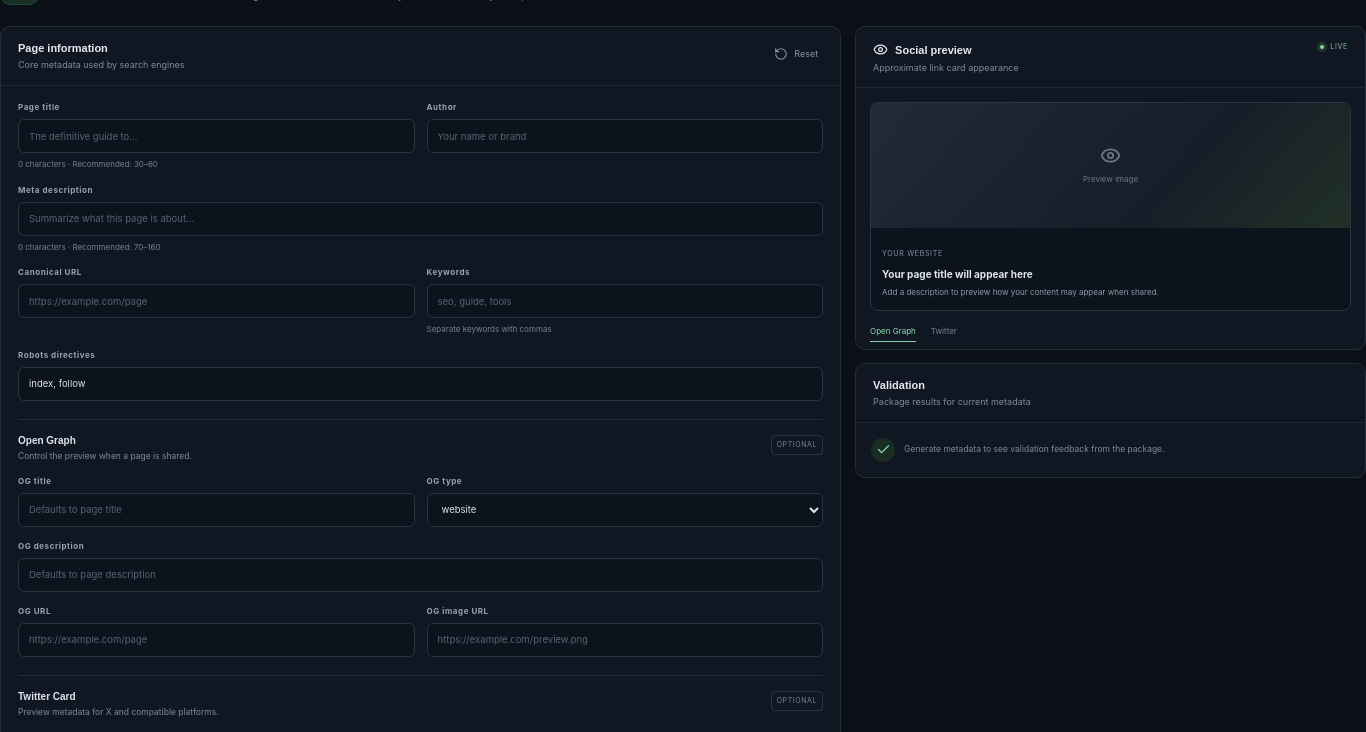
it: SEO generator interactions › generates metadata and displays the package HTML and validation result
Type "Search ready page" into the field with placeholder "The definitive guide to…". click: [216, 136]
box: [18, 119, 414, 153]
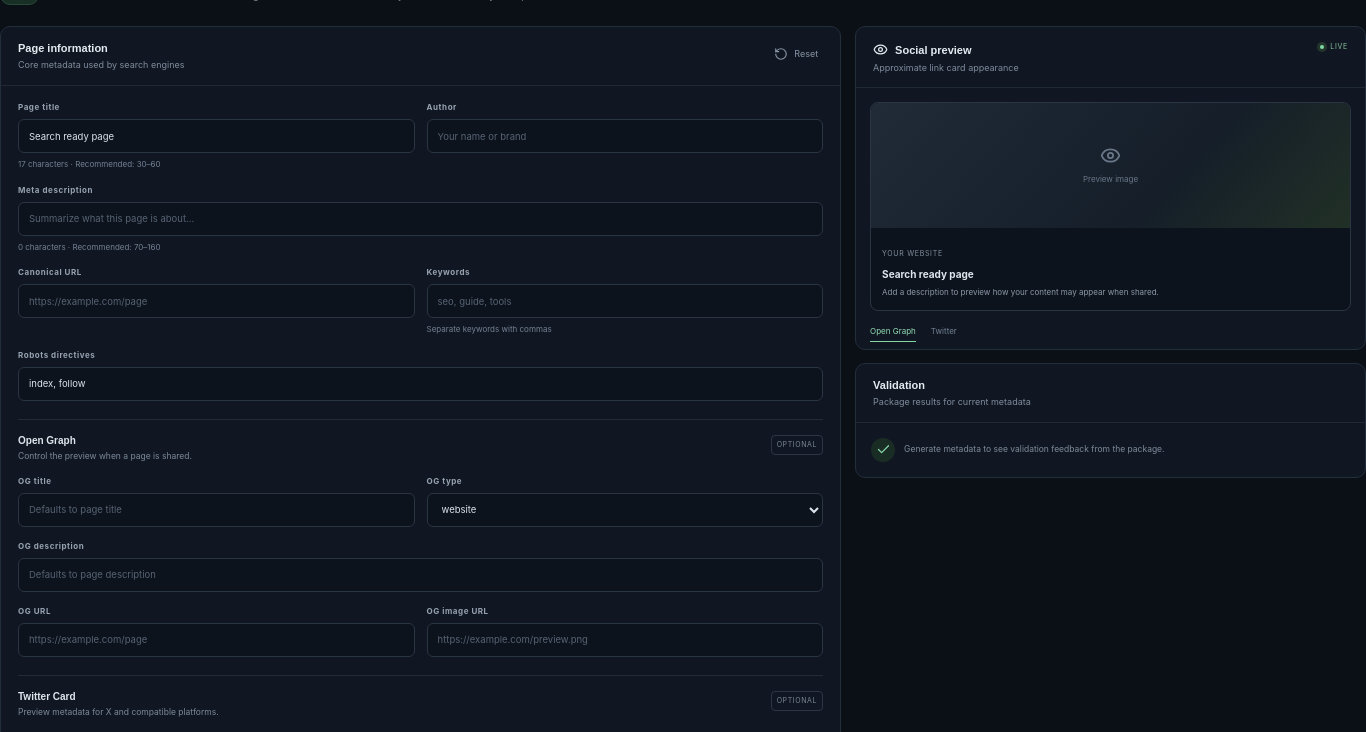
Type "A useful description for this search page." into the field with placeholder "Summarize what this page is about…". click: [421, 219]
box: [18, 202, 823, 236]
(page scrolled)
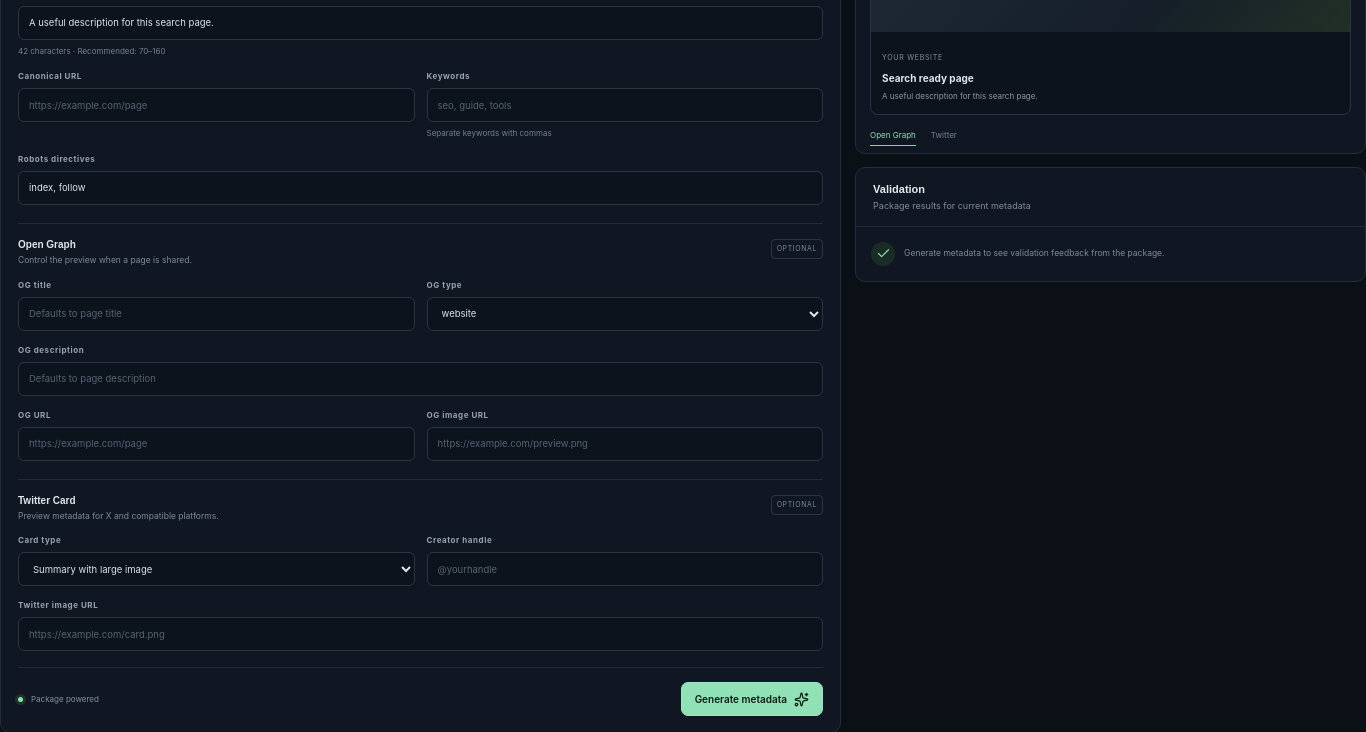
Click the button "Generate metadata". click: [752, 699]
box: [681, 682, 823, 716]
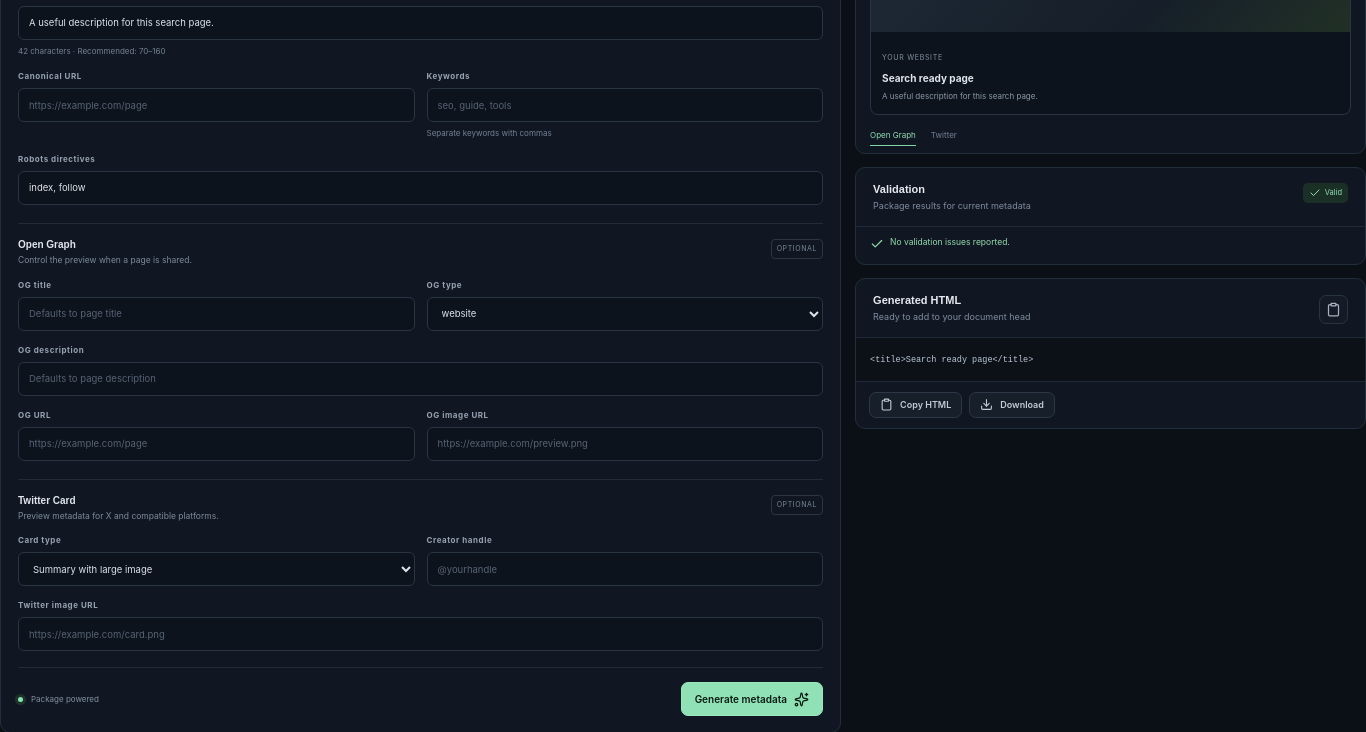
Check: the text "<title>Search ready page</title>" is shown, box [870, 354, 1033, 364]
Check: the text "Valid" is shown, box [1303, 182, 1348, 202]
